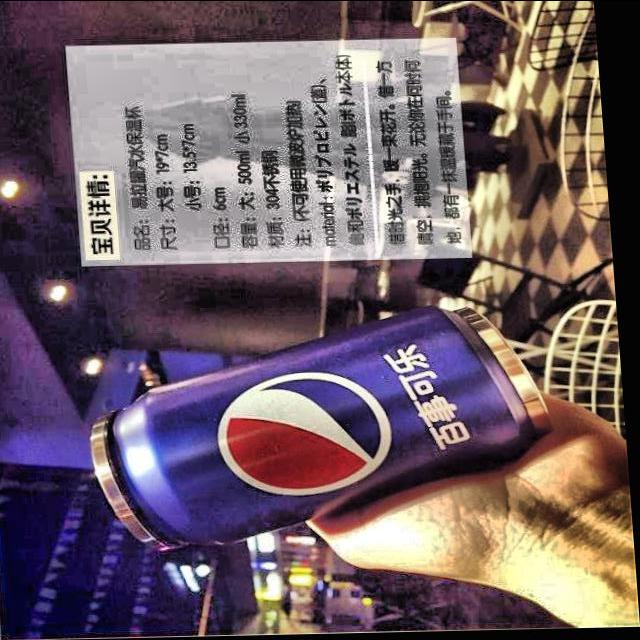litter: (80, 293, 569, 554)
